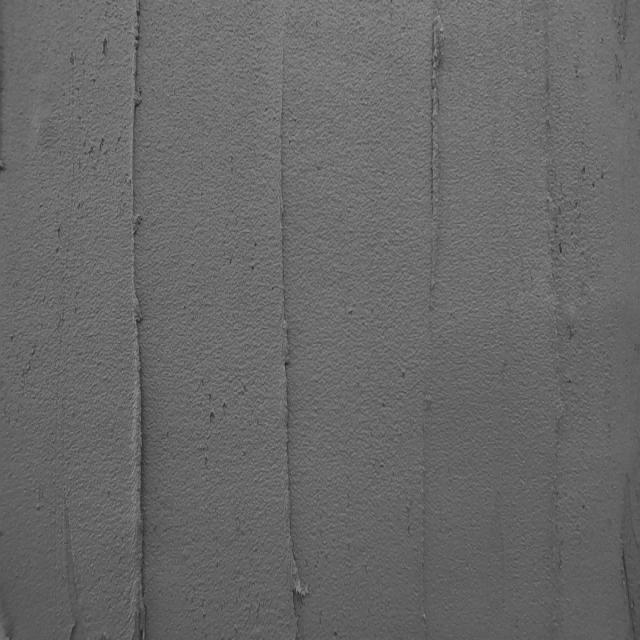trowels marks: (120, 2, 158, 640), (271, 51, 307, 640), (421, 11, 446, 303)
